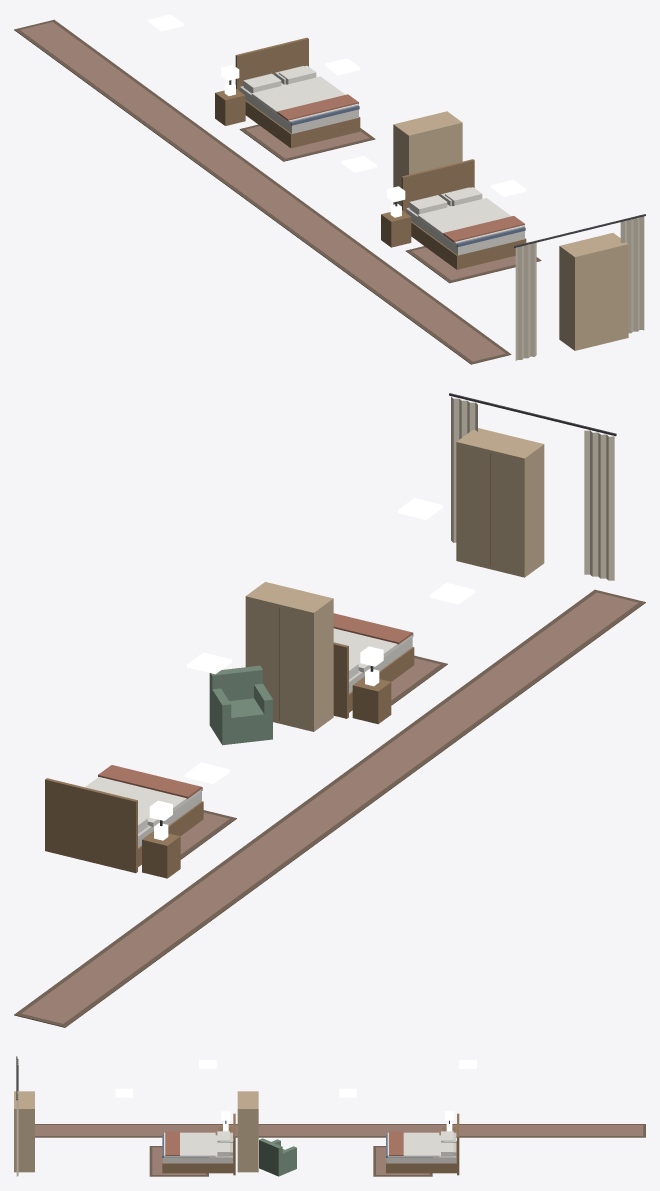
The model's file is fine-s1.glb.
3 views of the same model, one above another, from view 1: azimuth 30°, elevation 25°; view 2: azimuth 150°, elevation 25°; view 3: azimuth 270°, elevation 25° (orthographic). The views are drawn at different scales.
Visible parts, largest first — view 1: soft-s1, dresser.001, bed-frame.000, bed-frame.001, dresser.000, nightstand.000, nightstand.001; view 2: soft-s1, dresser.001, dresser.000, bed-frame.000, lounge-chair.000, bed-frame.001, nightstand.001, nightstand.000; view 3: soft-s1, dresser.000, dresser.001, bed-frame.000, bed-frame.001, lounge-chair.000.
Boxes of the visible parts, x1,y1,x2,y2 form: soft-s1: (14, 19, 645, 364); dresser.001: (559, 233, 628, 350); bed-frame.000: (235, 37, 360, 148); bed-frame.001: (401, 159, 526, 269); dresser.000: (393, 111, 462, 205); nightstand.000: (215, 82, 245, 125); nightstand.001: (381, 203, 411, 247); soft-s1: (14, 393, 645, 1027); dresser.001: (456, 428, 544, 577); dresser.000: (245, 582, 333, 731); bed-frame.000: (45, 778, 203, 873); lounge-chair.000: (209, 665, 272, 745); bed-frame.001: (333, 633, 414, 718); nightstand.001: (352, 668, 391, 724); nightstand.000: (142, 822, 180, 878); soft-s1: (16, 1056, 645, 1176); dresser.000: (237, 1091, 258, 1172); dresser.001: (14, 1091, 34, 1172); bed-frame.000: (386, 1113, 459, 1175); bed-frame.001: (162, 1113, 235, 1175); lounge-chair.000: (259, 1138, 296, 1176).
Bounding box in the file's own units: 3.67 × 2.51 × 18.13.
